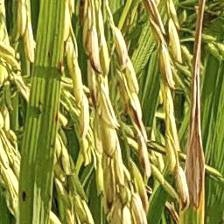Leaf_Blast: (181, 2, 208, 209)
